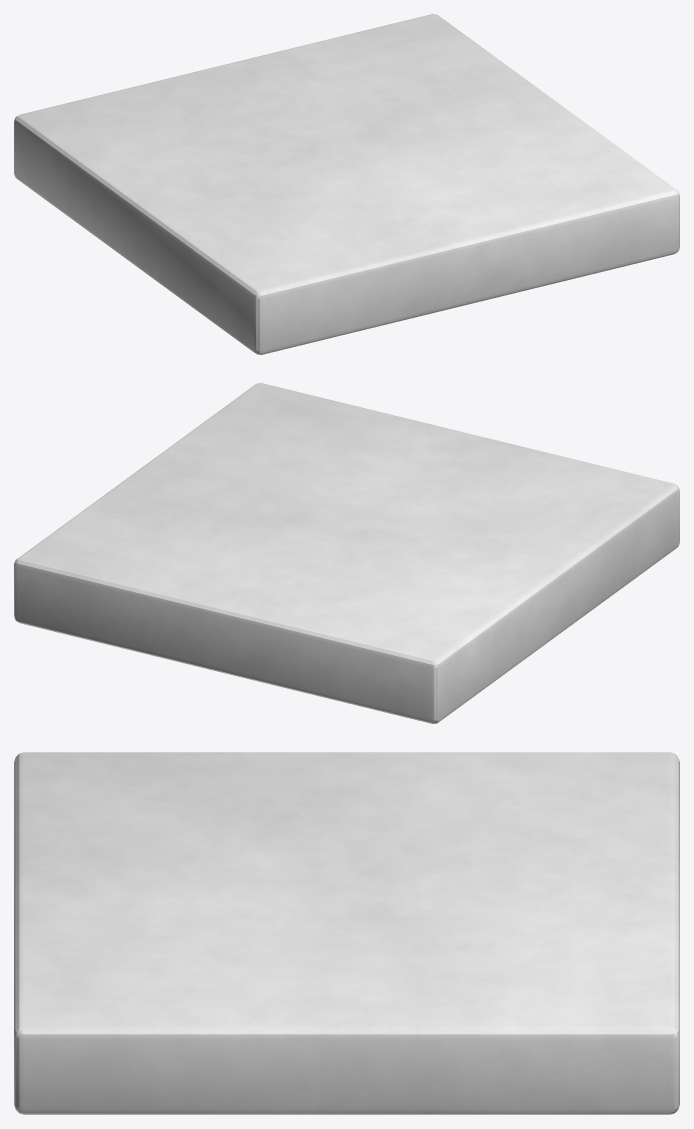
The model's file is plate.glb.
The picture shows the model from 3 angles, top to bottom: view 1: azimuth 30°, elevation 25°; view 2: azimuth 150°, elevation 25°; view 3: azimuth 270°, elevation 25°; orthographic projection. The views are drawn at different scales.
Parts seen in each view (by area): view 1: plate; view 2: plate; view 3: plate.
Part boxes in pixels (bbox=[...]): plate: bbox=[14, 14, 679, 354]; plate: bbox=[14, 383, 679, 723]; plate: bbox=[14, 752, 679, 1114].
Size of the model in its own units: 0.96 by 0.14 by 0.96.
Materials: 1 (1 with a texture image).
